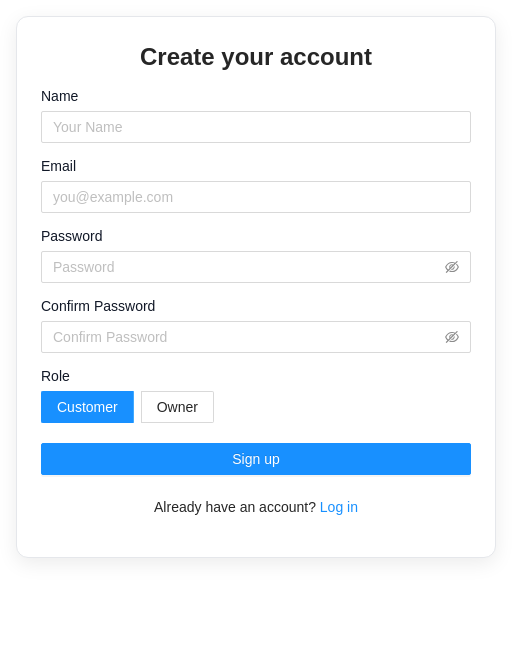
test Signup component › test shows validation error wrong email, password<8 confirm password not match and disabled button
Type "test" into the field with placeholder "you@example.com" at (256, 197), box [41,181,471,213]
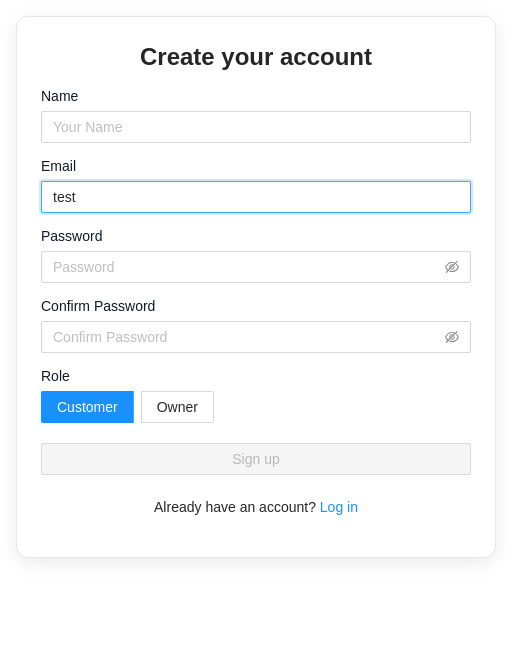
Type "pass" into the password field with placeholder "Password" at (247, 267), box [53,256,441,278]
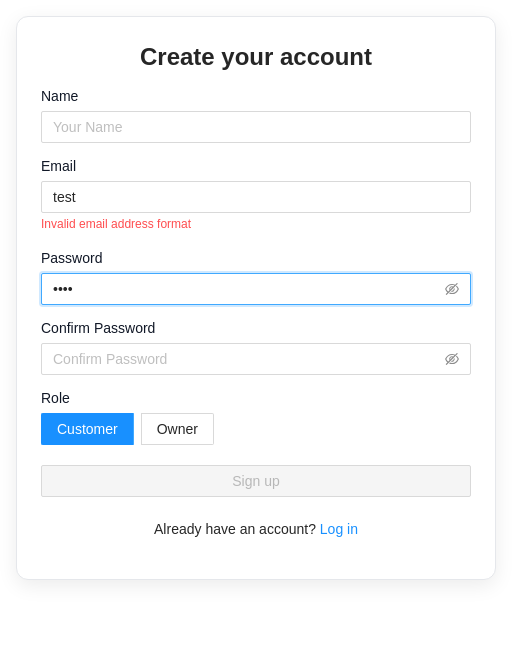
Expected: the text "Invalid email address format" is shown, [41,217,191,231]
Type "diff" into the password field with placeholder "Confirm Password" at (247, 359), box [53,348,441,370]
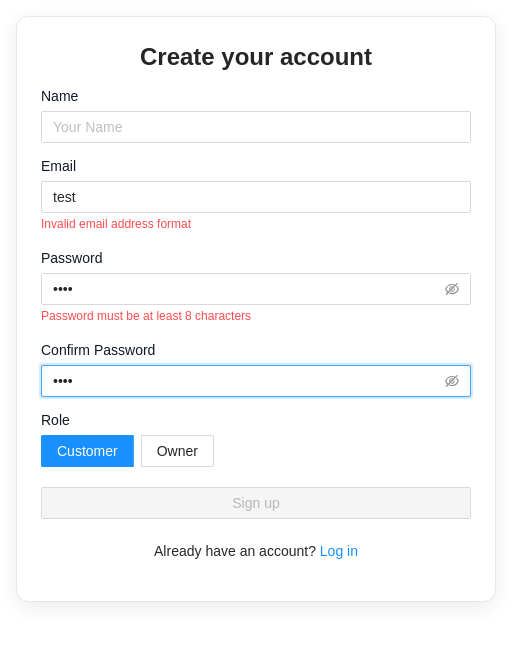
Expected: the text "Password must be at least 8 characters" is shown, [41,309,251,323]
Click the field with placeholder "you@example.com" at (256, 197), box [41,181,471,213]
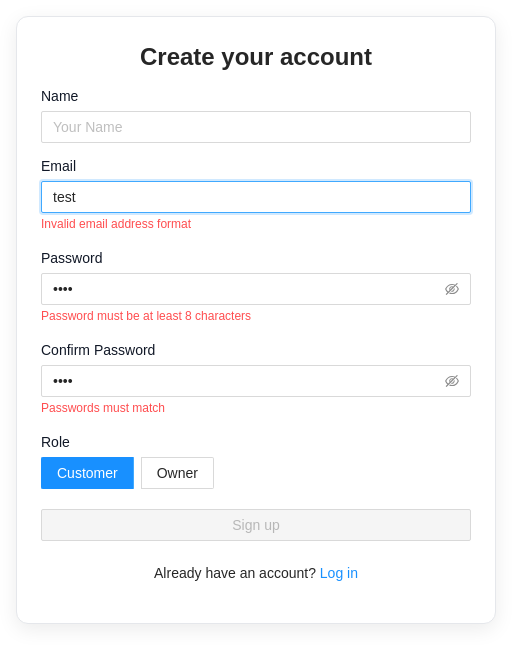
Expected: the button "Sign up" is disabled, [41,509,471,541]
Expected: the text "Passwords must match" is shown, [41,401,165,415]
